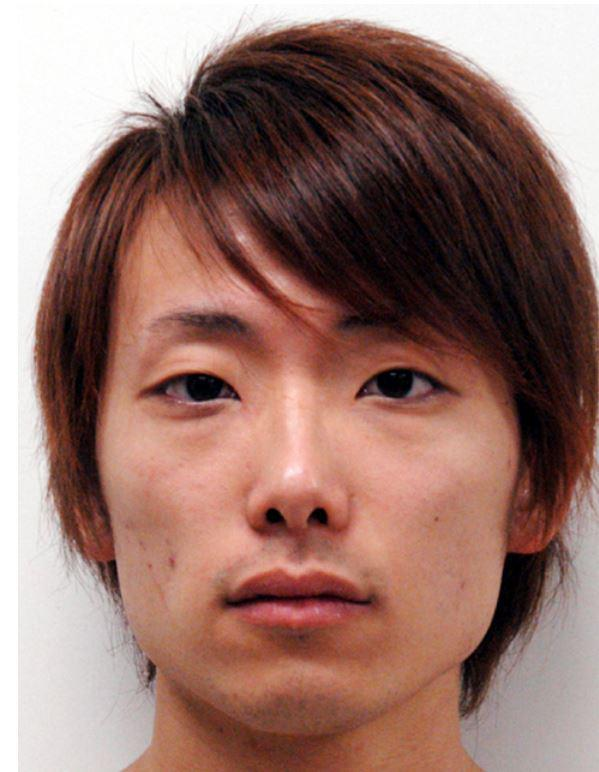Sober: (117, 219, 488, 734)
